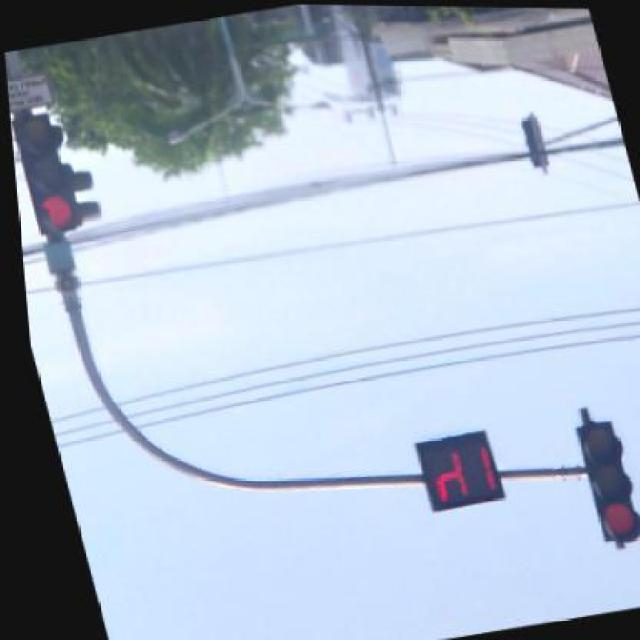Traffic Light -Red-: (574, 414, 640, 554), (12, 108, 77, 242)
